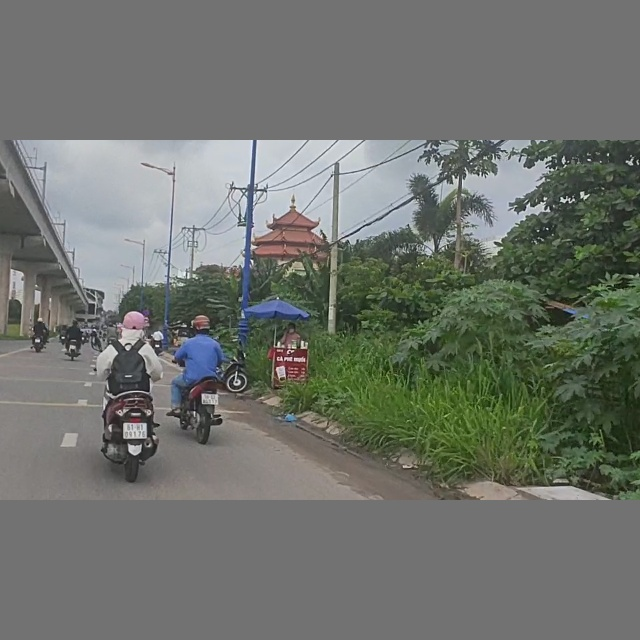B.8a: (144, 317, 149, 323)
P.130: (142, 309, 150, 317)
